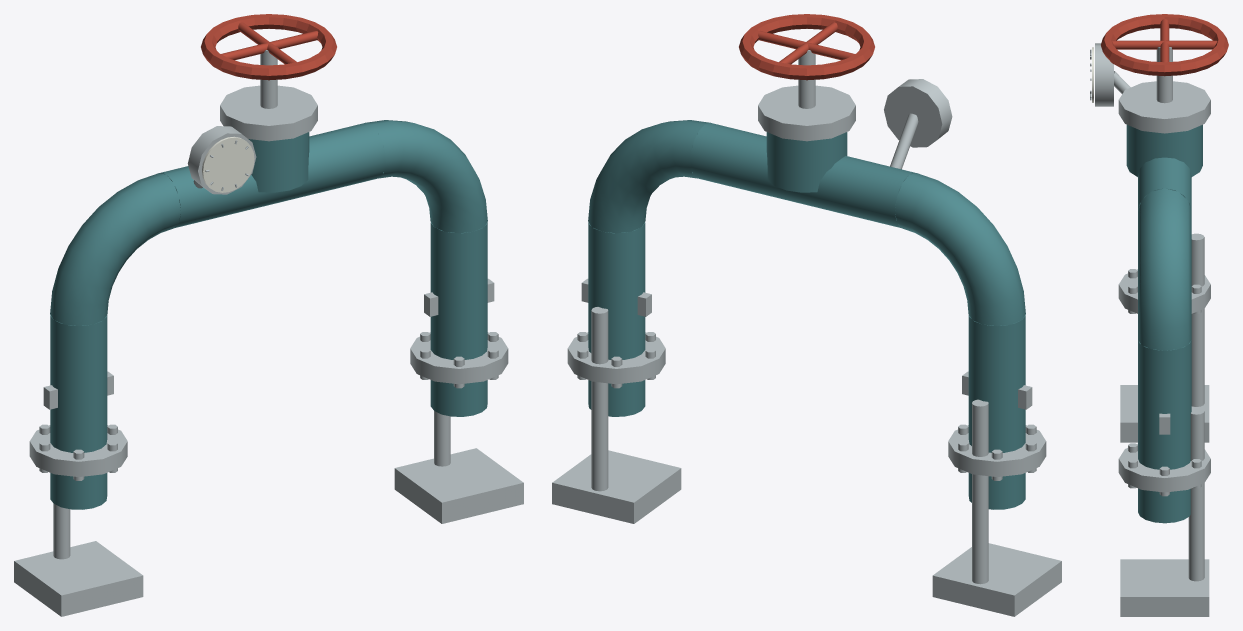
The model's file is service_manifold.glb.
3 views of the same model, side by side, from view 1: azimuth 30°, elevation 25°; view 2: azimuth 150°, elevation 25°; view 3: azimuth 270°, elevation 25° (orthographic). The views are drawn at different scales.
Visible parts, largest first — view 1: service_manifold_SPOT_service_enamel, service_manifold_SPOT_service_steel, service_manifold_SPOT_service_valve, service_manifold_SPOT_service_dial; view 2: service_manifold_SPOT_service_enamel, service_manifold_SPOT_service_steel, service_manifold_SPOT_service_valve; view 3: service_manifold_SPOT_service_enamel, service_manifold_SPOT_service_steel, service_manifold_SPOT_service_valve.
Part boxes in pixels (x1=…): service_manifold_SPOT_service_enamel: x1=50, y1=120, x2=487, y2=509; service_manifold_SPOT_service_steel: x1=14, y1=50, x2=523, y2=616; service_manifold_SPOT_service_valve: x1=201, y1=14, x2=336, y2=80; service_manifold_SPOT_service_dial: x1=202, y1=136, x2=254, y2=192; service_manifold_SPOT_service_enamel: x1=588, y1=120, x2=1025, y2=509; service_manifold_SPOT_service_steel: x1=552, y1=50, x2=1061, y2=616; service_manifold_SPOT_service_valve: x1=739, y1=14, x2=874, y2=80; service_manifold_SPOT_service_enamel: x1=1126, y1=124, x2=1202, y2=523; service_manifold_SPOT_service_steel: x1=1090, y1=43, x2=1210, y2=616; service_manifold_SPOT_service_valve: x1=1101, y1=14, x2=1228, y2=76.
Size of the model in its own units: 1.59 by 1.64 by 0.4376.
